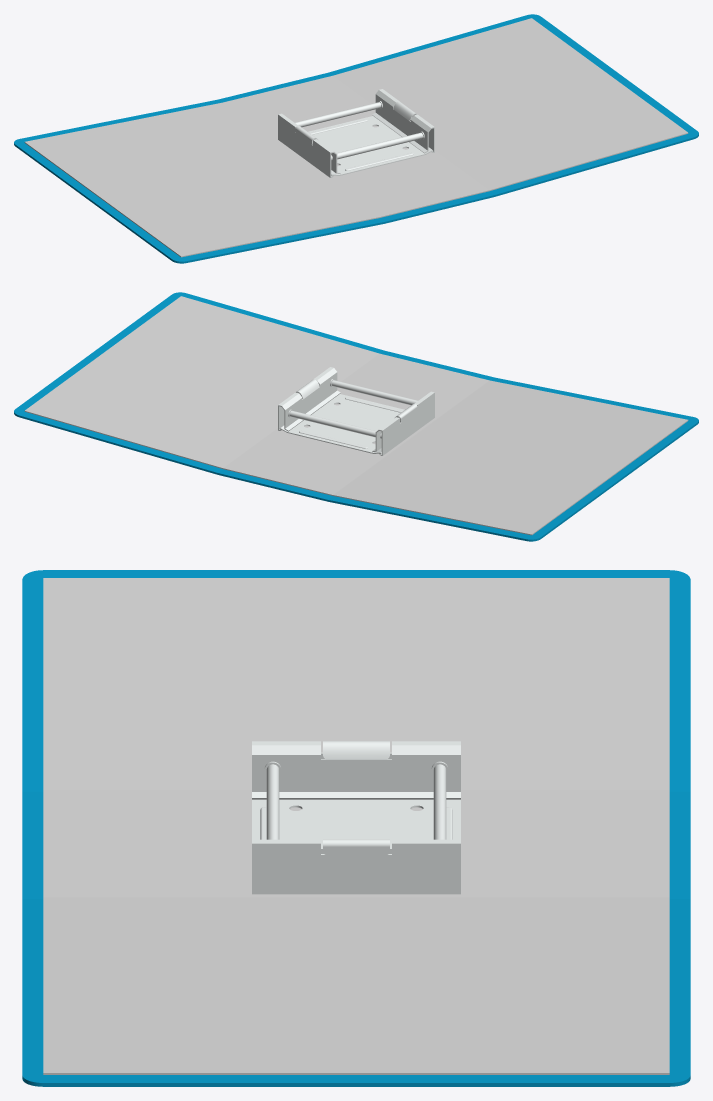
The model's file is 455_パイプ式ファイル太開.glb.
3 views of the same model, one above another, from view 1: azimuth 30°, elevation 25°; view 2: azimuth 150°, elevation 25°; view 3: azimuth 270°, elevation 25° (orthographic). The views are drawn at different scales.
Visible parts, largest first — view 1: 455_pipe_file_L_open; view 2: 455_pipe_file_L_open; view 3: 455_pipe_file_L_open.
Boxes of the visible parts, x1,y1,x2,y2 form: 455_pipe_file_L_open: [14, 14, 698, 263]; 455_pipe_file_L_open: [14, 292, 698, 541]; 455_pipe_file_L_open: [22, 570, 690, 1086].
Bounding box in the file's own units: 0.5813 × 0.031 × 0.32.
